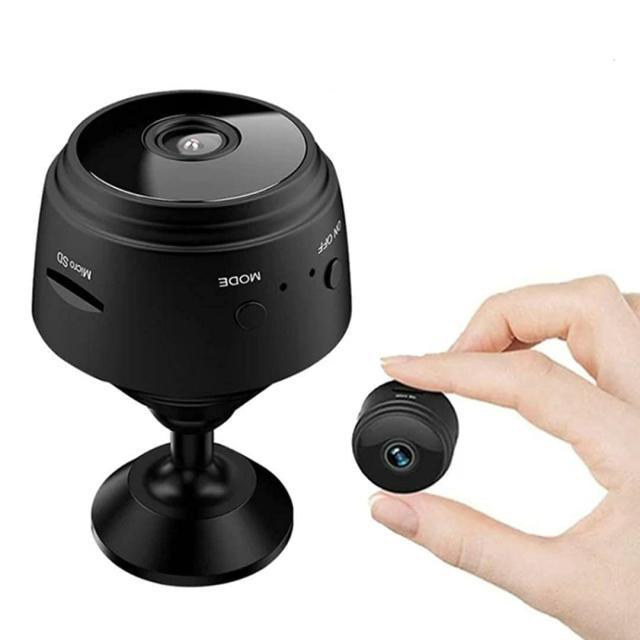hidden camera: (76, 50, 309, 239), (360, 396, 445, 514)
